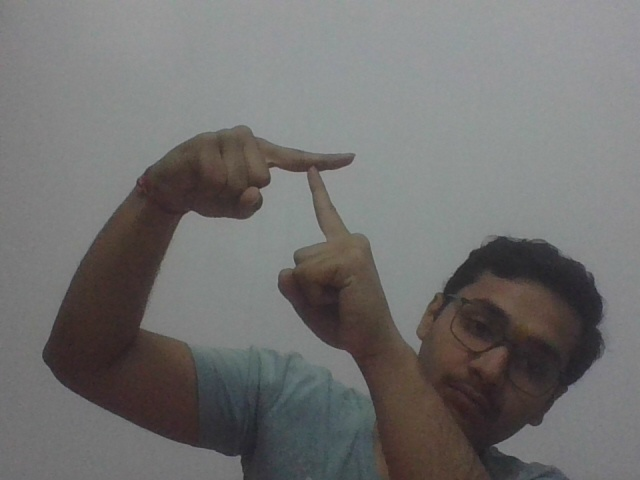T: (178, 111, 399, 347)
